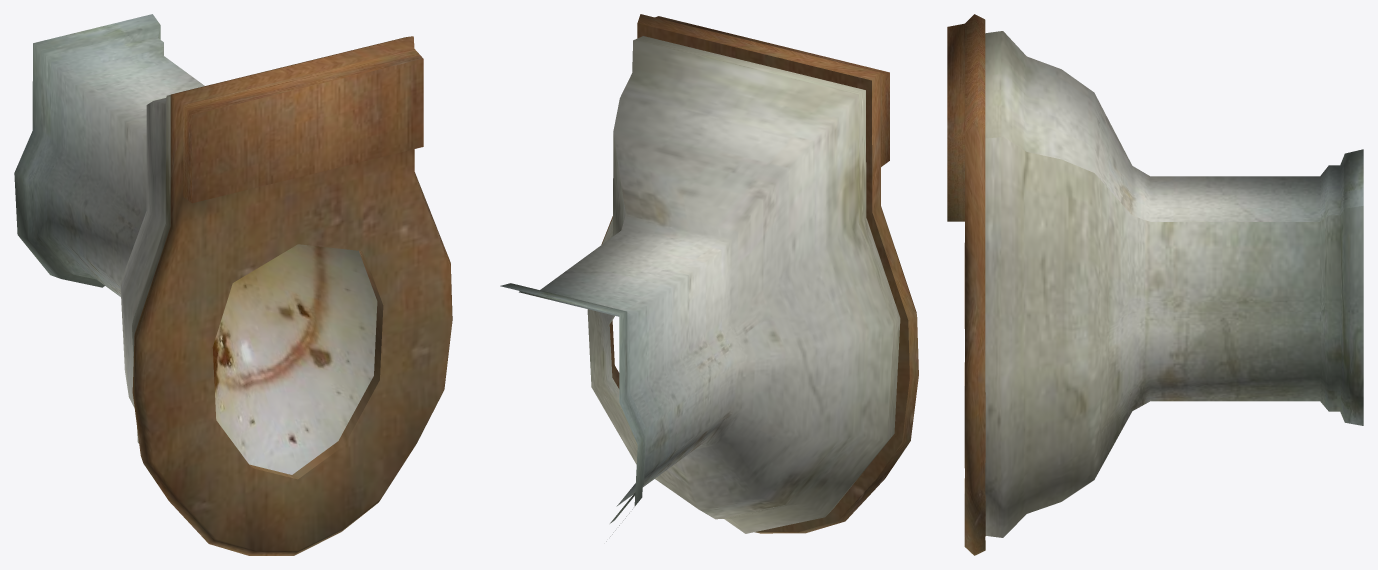
File: furniture_frenchtoiletbowl.glb
3 views of the same model, side by side, from view 1: azimuth 30°, elevation 25°; view 2: azimuth 150°, elevation 25°; view 3: azimuth 270°, elevation 25° (orthographic). The views are drawn at different scales.
Size of the model in its own units: 19.73 by 29.14 by 23.15.
1 material, 1 textured.
